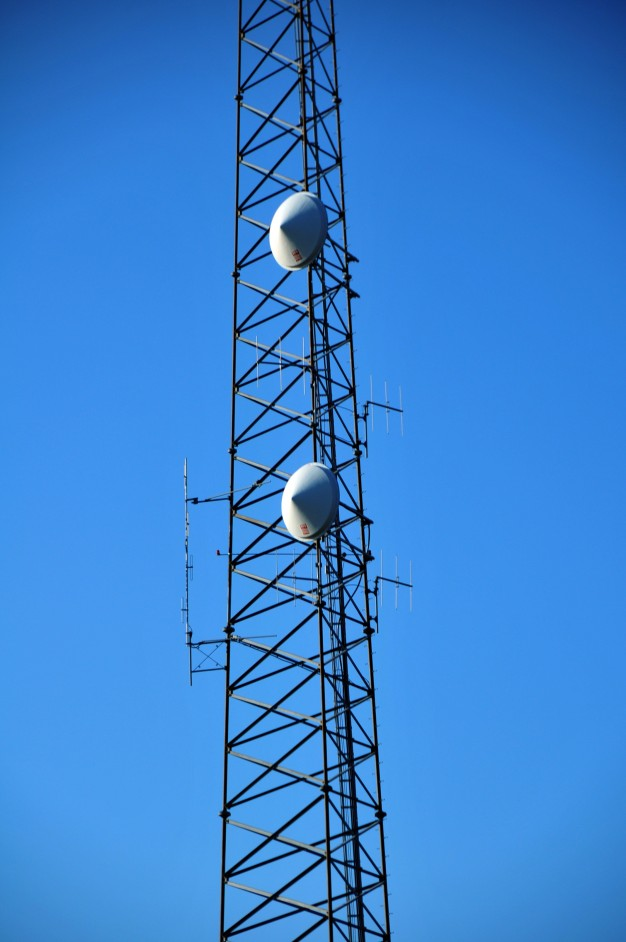b: (267, 190, 322, 270), (281, 462, 334, 539)
